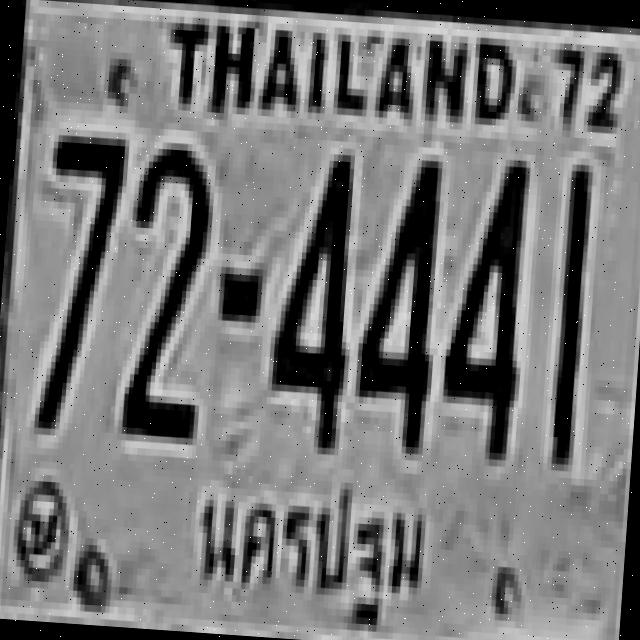1: (545, 160, 591, 462)
2: (115, 140, 211, 438)
4: (434, 149, 530, 454), (265, 144, 357, 448), (352, 150, 442, 448)
7: (30, 127, 126, 432), (38, 131, 123, 342)
NakhonPathom: (185, 462, 435, 640)
